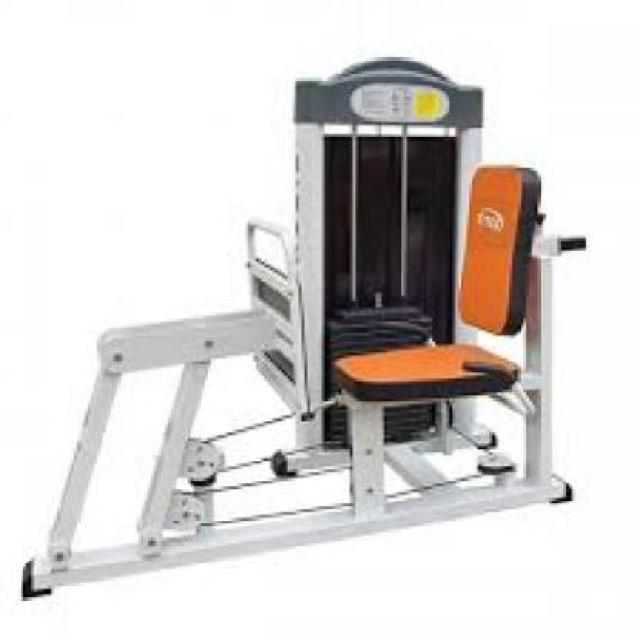leg press: (0, 41, 622, 614)
